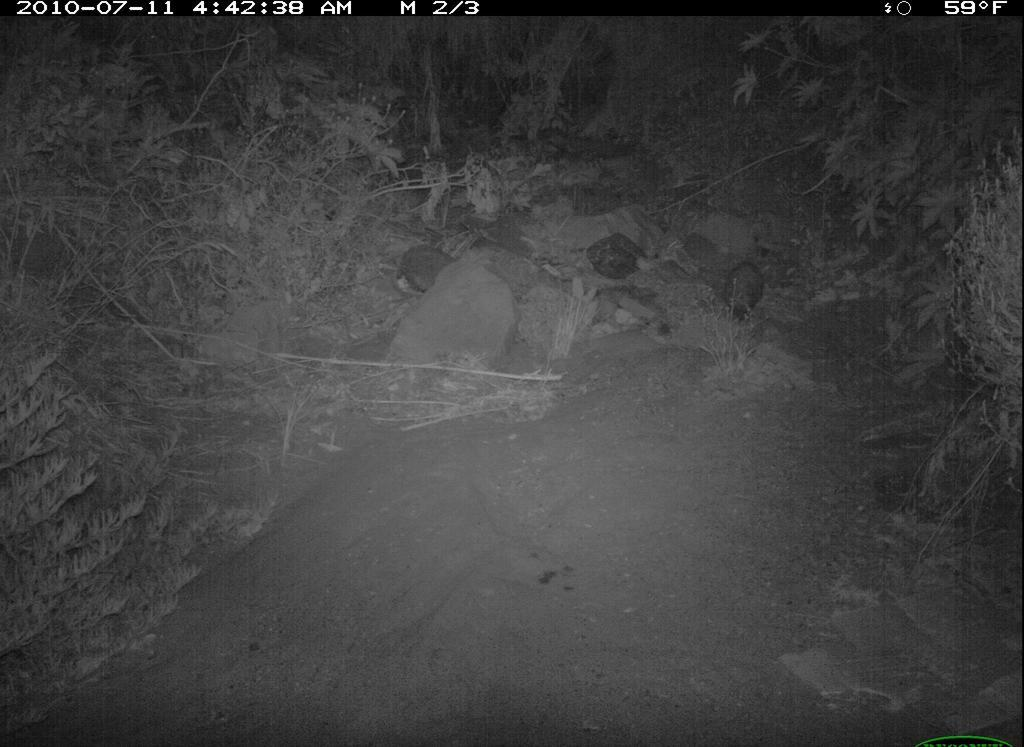opossum: (707, 253, 788, 332)
